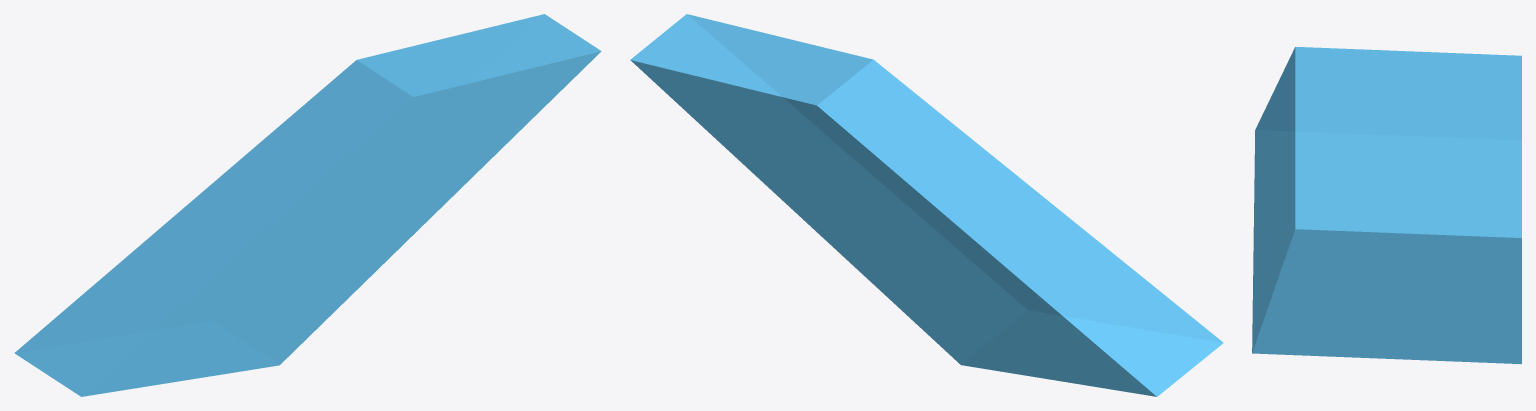
File: Event_421364160_HBrechit_23.fbx
3 renders of one model, left to right at view 1: azimuth 30°, elevation 25°; view 2: azimuth 150°, elevation 25°; view 3: azimuth 270°, elevation 25°, orthographic. The views are drawn at different scales.
Visible parts, largest first — view 1: Model; view 2: Model; view 3: Model.
Boxes of the visible parts, <box> form: Model: <box>14,14,601,396</box>; Model: <box>630,14,1223,396</box>; Model: <box>1252,46,1521,364</box>.
Size of the model in its own units: 2.16 by 0.8945 by 0.4777.
